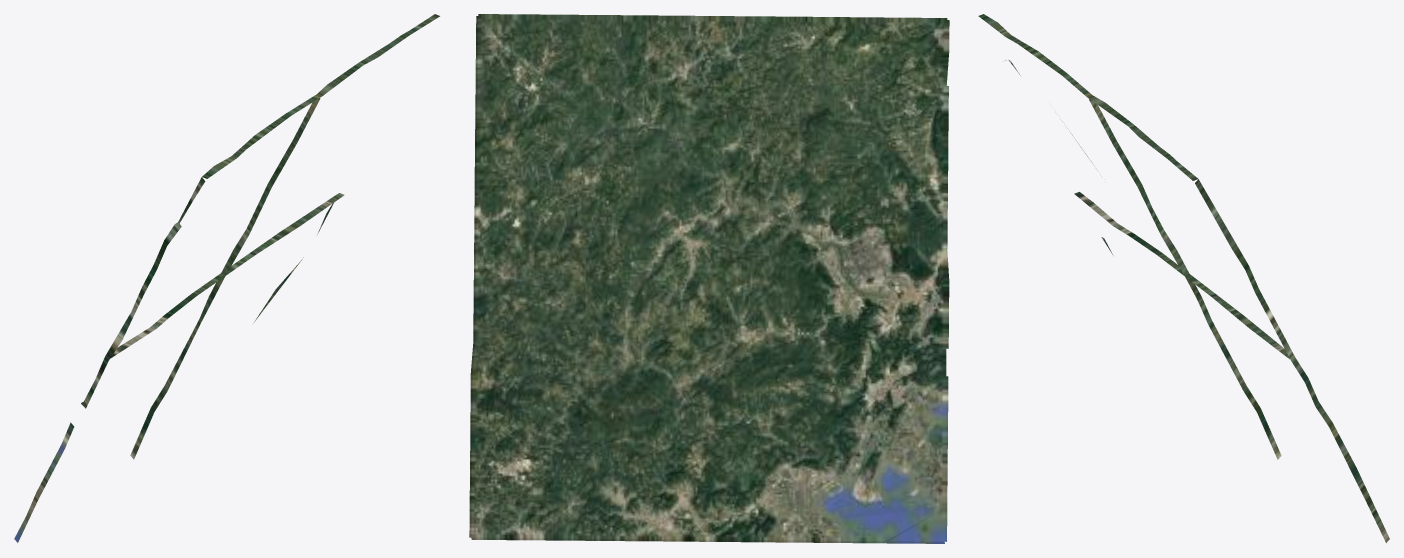
3 renders of one model, left to right at view 1: azimuth 30°, elevation 25°; view 2: azimuth 150°, elevation 25°; view 3: azimuth 270°, elevation 25°, orthographic. The views are drawn at different scales.
Bounding box in the file's own units: 158117 × 142948 × 130163.
Materials: 1 (1 with a texture image).
